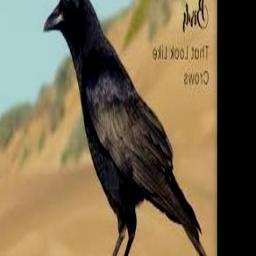Crow: (44, 0, 208, 256)
